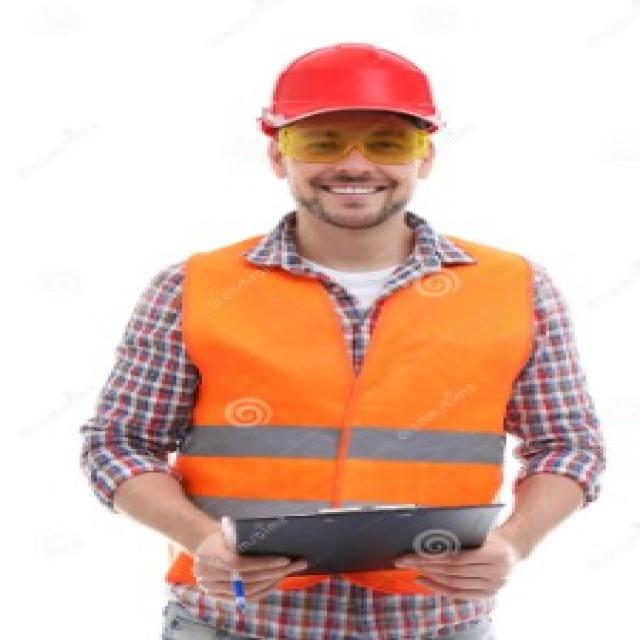not-gloved: (386, 530, 547, 605), (188, 528, 304, 606)
